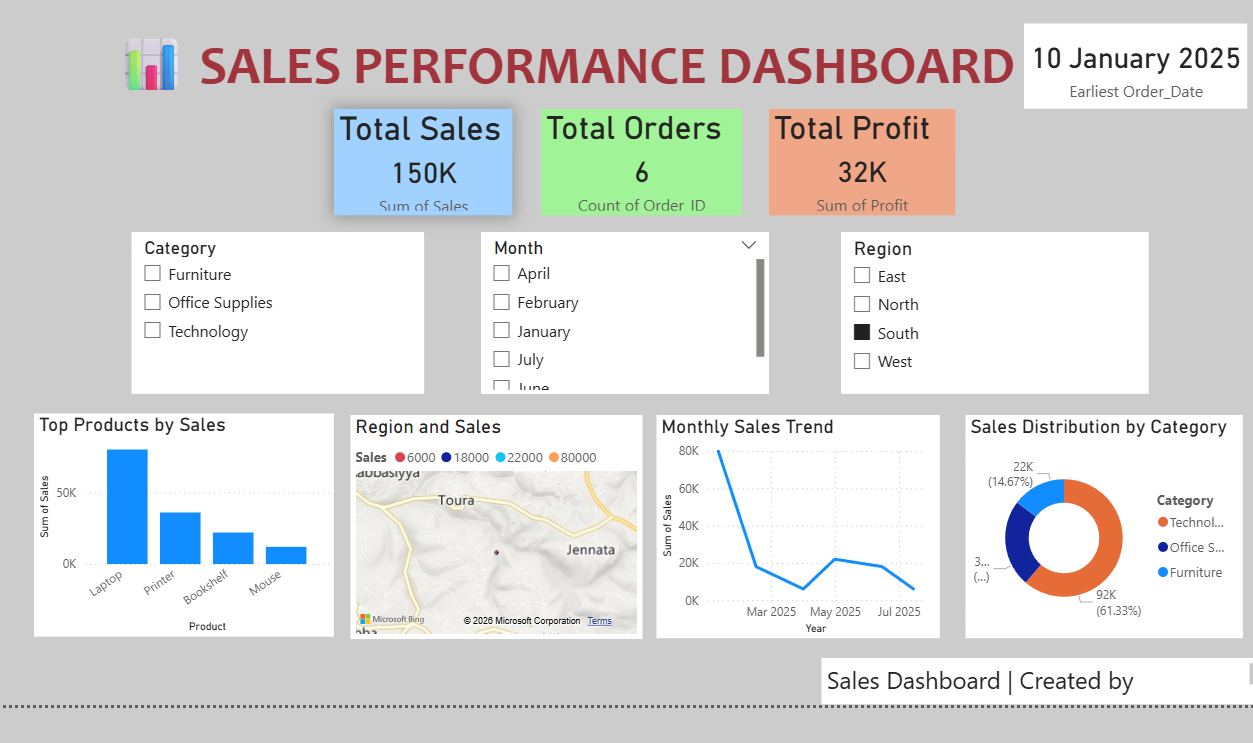

What the dashboard file says about the page in this screenshot:
{"tool":"powerbi","page":{"name":"Page 1","canvas":[1280,720],"ordinal":0},"visuals":[{"type":"donutChart","title":"Sales Distribution by Category","fields":{"Category":["E_sales.Category"],"Y":["Sum(E_sales.Sales)"]},"box":[979.7,427,280.1,225.6],"z":0},{"type":"clusteredColumnChart","title":"Top Products by Sales","fields":{"Y":["Sum(E_sales.Sales)"],"Category":["E_sales.Product"]},"box":[39.4,425.5,302.8,225.6],"z":1000},{"type":"textbox","box":[0,28.8,1150.8,112.1],"z":2000},{"type":"card","title":"Total Sales","fields":{"Values":["Sum(E_sales.Sales)"]},"box":[342.2,118.1,180.2,107.5],"z":3000},{"type":"card","title":"Total Orders","fields":{"Values":["CountNonNull(E_sales.Order_ID)"]},"box":[551.2,118.1,202.9,107.5],"z":4000},{"type":"card","title":"Total Profit","fields":{"Values":["Sum(E_sales.Profit)"]},"box":[781.3,118.1,187.8,107.5],"z":5000},{"type":"lineChart","title":"Monthly Sales Trend","fields":{"Y":["Sum(E_sales.Sales)"],"Category":["E_sales.Order_Date.Variation.Date Hierarchy.Year","E_sales.Order_Date.Variation.Date Hierarchy.Quarter","E_sales.Order_Date.Variation.Date Hierarchy.Month","E_sales.Order_Date.Variation.Date Hierarchy.Day"]},"box":[667.8,427,286.2,225.6],"z":6000},{"type":"map","fields":{"Category":["E_sales.Region"],"Series":["E_sales.Sales"]},"box":[358.9,427,293.8,225.6],"z":7000},{"type":"slicer","fields":{"Values":["E_sales.Month"]},"box":[490.6,242.3,290.7,163.5],"z":8000},{"type":"slicer","fields":{"Values":["E_sales.Region"]},"box":[854,242.3,310.4,163.5],"z":9000},{"type":"slicer","fields":{"Values":["E_sales.Category"]},"box":[137.8,242.3,295.3,163.5],"z":10000},{"type":"textbox","box":[834.3,672.3,445.2,46.9],"z":10001},{"type":"card","fields":{"Values":["Min(E_sales.Order_Date)"]},"box":[1038.7,31.8,225.6,86.3],"z":10002}]}

Visuals, with their boxes on the page's 1280x720 design canvas (x1, y1, x2, y2). These are canvas units, not pixel positions in the 1253x743 screenshot, which may show the page scaled, cropped or inside an application window:
"Sales Distribution by Category" donutChart: box(980, 427, 1260, 653)
"Top Products by Sales" clusteredColumnChart: box(39, 426, 342, 651)
textbox: box(0, 29, 1151, 141)
"Total Sales" card: box(342, 118, 522, 226)
"Total Orders" card: box(551, 118, 754, 226)
"Total Profit" card: box(781, 118, 969, 226)
"Monthly Sales Trend" lineChart: box(668, 427, 954, 653)
map - E_sales.Region x E_sales.Sales: box(359, 427, 653, 653)
slicer - E_sales.Month: box(491, 242, 781, 406)
slicer - E_sales.Region: box(854, 242, 1164, 406)
slicer - E_sales.Category: box(138, 242, 433, 406)
textbox: box(834, 672, 1280, 719)
card - Min(E_sales.Order_Date): box(1039, 32, 1264, 118)
